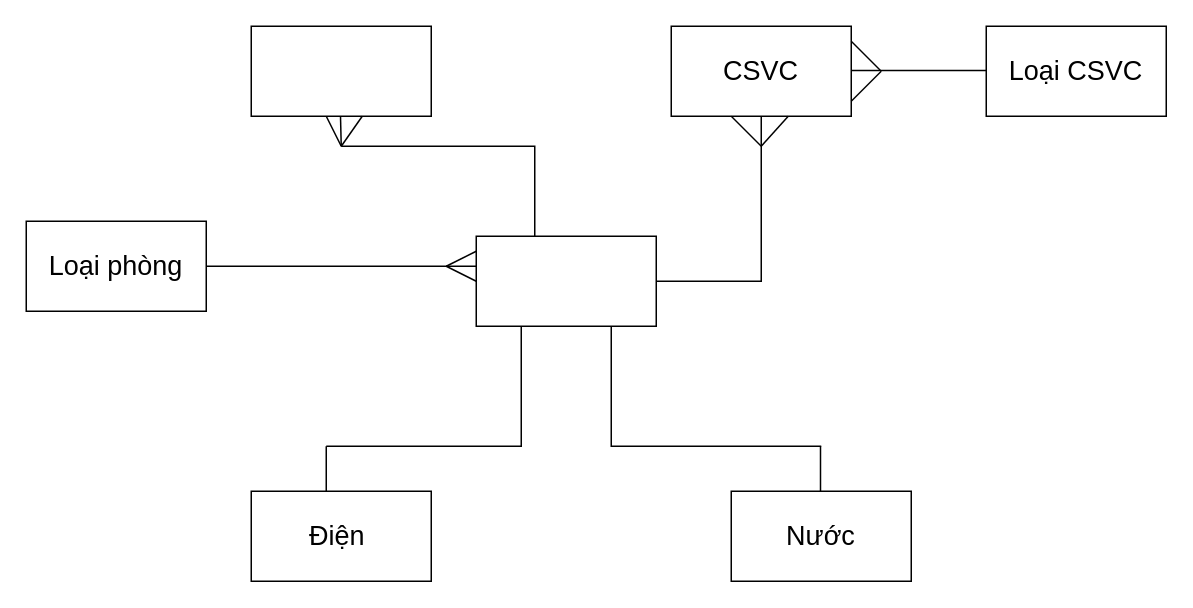
Image size: 1193x608. Some labels were removed from this diagram. The shapes that lost their labels are listed below. From the top down, each one's centre as x and y in pixels, then its label:
the point at 340,70: Sinh viên
the point at 565,280: Phòng
